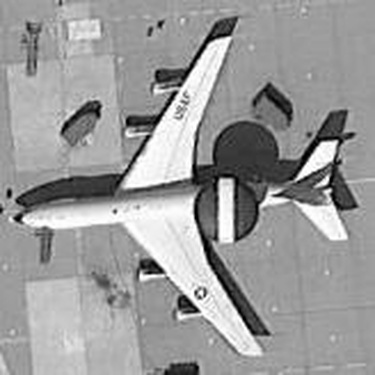airplane: (7, 17, 354, 363)
